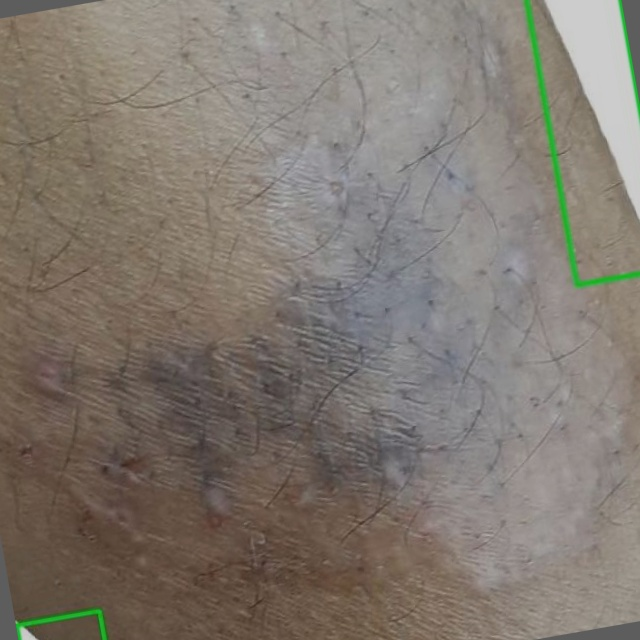Tinea Corporis: (527, 0, 639, 284)
